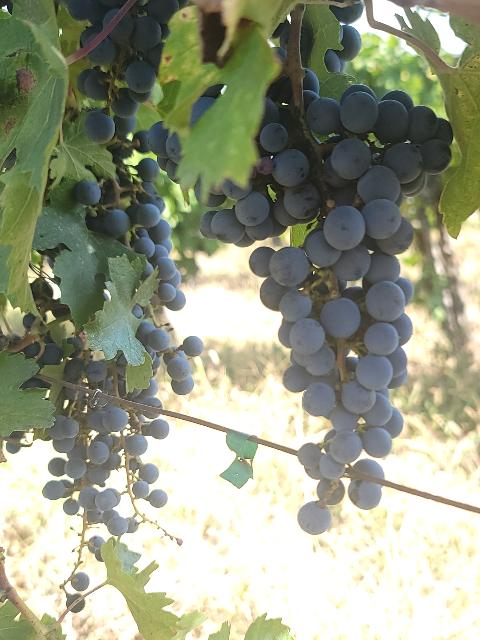grapes: (202, 85, 452, 534), (20, 376, 170, 564), (79, 131, 181, 304), (21, 280, 158, 401), (76, 0, 189, 144), (65, 0, 126, 49), (60, 569, 90, 612)
